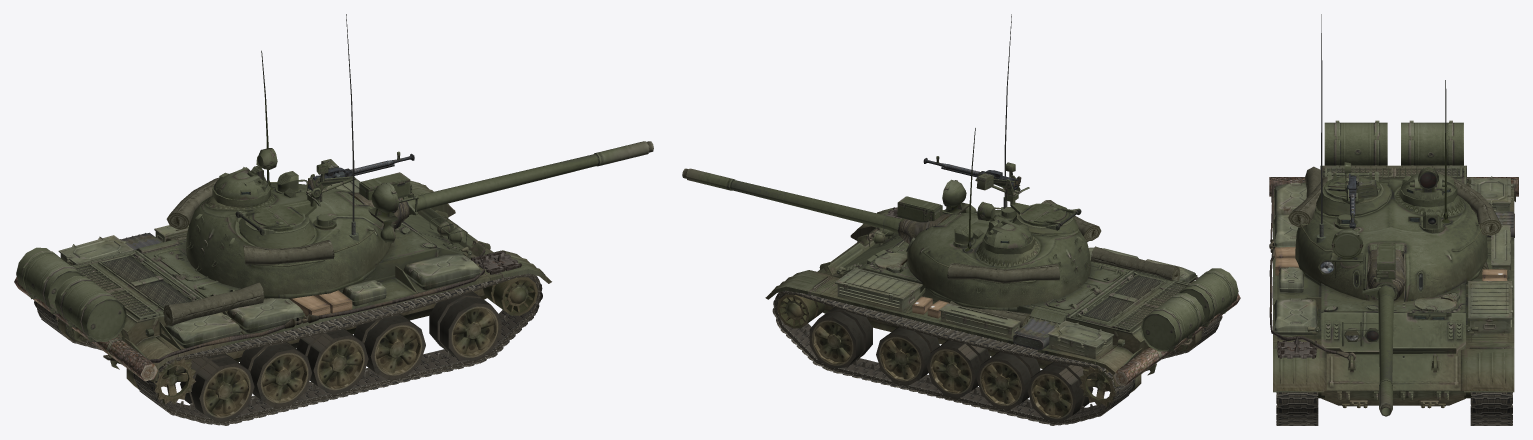
3 renders of one model, left to right at view 1: azimuth 30°, elevation 25°; view 2: azimuth 150°, elevation 25°; view 3: azimuth 270°, elevation 25°, orthographic. The views are drawn at different scales.
Visible parts, largest first — view 1: turret, hull, track, hullb, accessories, gear559, weapon, tire, tire02, gear100, tire04, tire01 (+18 smaller); view 2: turret, hullb, hull, track2, accessories, gear559, weapon, tire09, gear101, tire08, tire07, tire06 (+16 smaller); view 3: hull, turret, accessories, gear559, weapon, hullb, track, track2, lens, gear101, mount, laser (+15 smaller).
Boxes of the visible parts, bbox=[...] form: turret: bbox=[186, 50, 398, 294]; hull: bbox=[90, 180, 551, 373]; track: bbox=[132, 273, 542, 425]; hullb: bbox=[58, 232, 244, 388]; accessories: bbox=[58, 178, 481, 348]; gear559: bbox=[16, 247, 126, 342]; weapon: bbox=[405, 141, 653, 214]; tire: bbox=[429, 292, 501, 360]; tire02: bbox=[180, 353, 254, 422]; gear100: bbox=[163, 282, 264, 325]; tire04: bbox=[239, 342, 311, 407]; tire01: bbox=[353, 314, 425, 380]; turret: bbox=[906, 128, 1090, 307]; hullb: bbox=[1013, 264, 1201, 392]; hull: bbox=[765, 207, 1194, 379]; track2: bbox=[772, 290, 1135, 425]; accessories: bbox=[835, 210, 1197, 359]; gear559: bbox=[1140, 268, 1238, 351]; weapon: bbox=[682, 168, 901, 233]; tire09: bbox=[809, 307, 872, 368]; gear101: bbox=[947, 263, 1059, 283]; tire08: bbox=[1027, 362, 1093, 422]; tire07: bbox=[976, 351, 1040, 409]; tire06: bbox=[876, 327, 939, 385]; hull: bbox=[1273, 167, 1514, 408]; turret: bbox=[1295, 80, 1487, 301]; accessories: bbox=[1273, 176, 1513, 335]; gear559: bbox=[1324, 120, 1463, 165]; weapon: bbox=[1377, 285, 1395, 416]; hullb: bbox=[1271, 165, 1515, 237]; track: bbox=[1276, 392, 1318, 425]; track2: bbox=[1470, 392, 1512, 425]; lens: bbox=[1318, 171, 1450, 291]; gear101: bbox=[1437, 172, 1502, 235]; mount: bbox=[1367, 249, 1404, 300]; laser: bbox=[1374, 243, 1395, 283].
Bounding box in the file's own units: 9.23 × 5.33 × 3.4.
11 materials, 11 textured.
